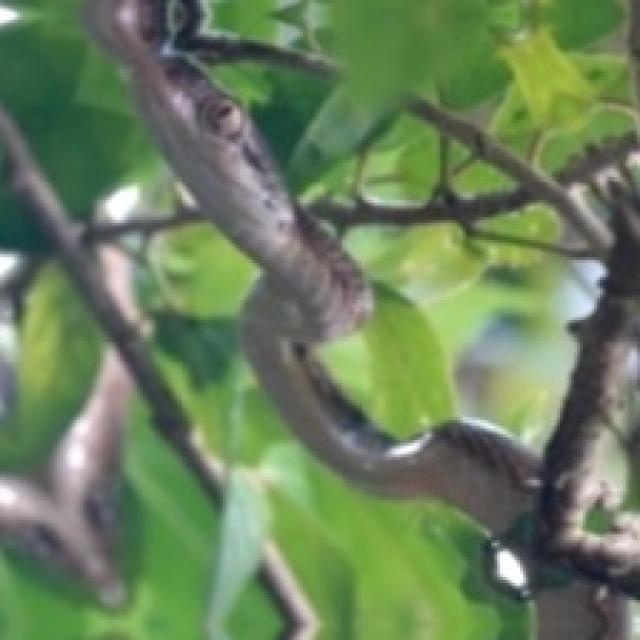dog-toothed cat snake: (88, 2, 538, 536)
